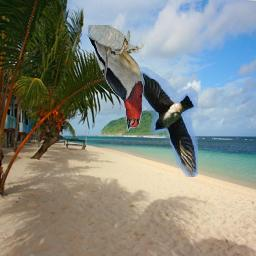Swallow: (136, 67, 198, 177)
Woodpecker: (84, 26, 146, 135)
